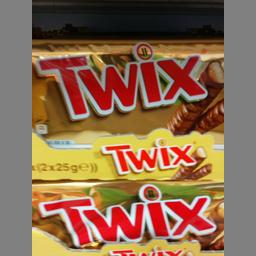chocolate: (32, 38, 223, 143), (31, 180, 223, 250)
